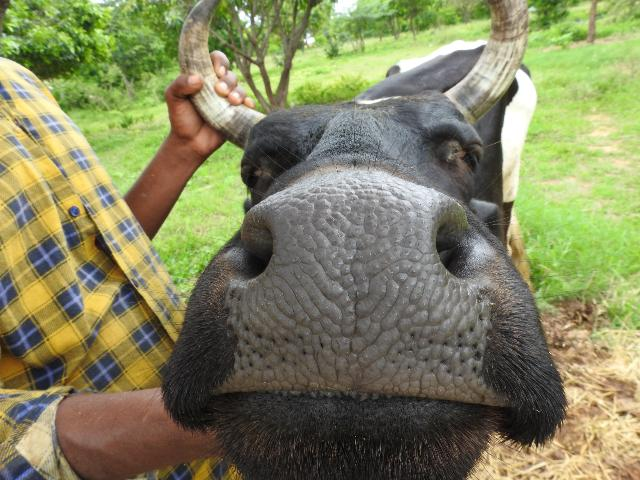Muzzle: (238, 194, 486, 402)
